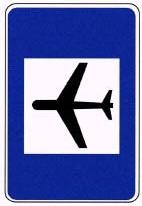aeroporto: (1, 0, 142, 206)
